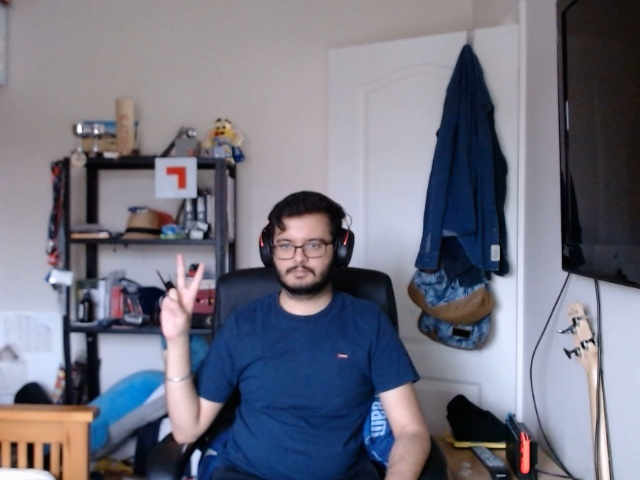Peace: (150, 248, 215, 359)
